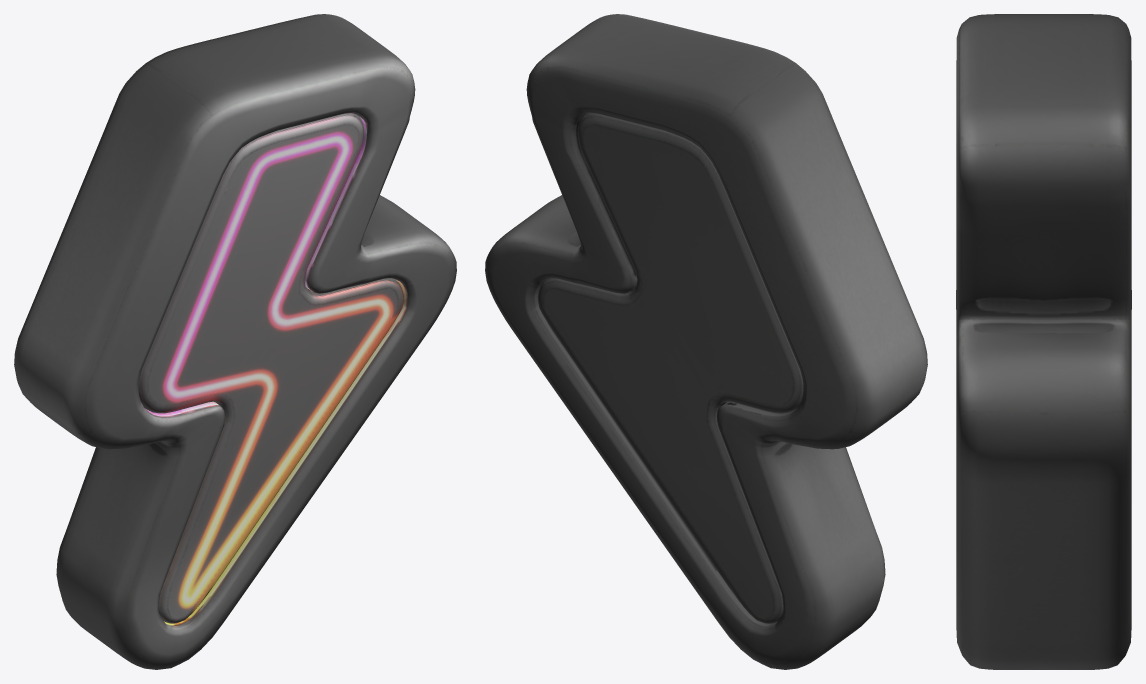
Rendered from Black_XP_2.glb.
The picture shows the model from 3 angles, left to right: view 1: azimuth 30°, elevation 25°; view 2: azimuth 150°, elevation 25°; view 3: azimuth 270°, elevation 25°; orthographic projection. The views are drawn at different scales.
Parts seen in each view (by area): view 1: мат.001; view 2: мат.001; view 3: мат.001.
Boxes of the visible parts, x1,y1,x2,y2 form: мат.001: (14,14,456,669); мат.001: (485,14,927,669); мат.001: (956,14,1131,669).
Bounding box in the file's own units: 0.0768 × 0.1071 × 0.025.
Materials: 1 (1 with a texture image).
